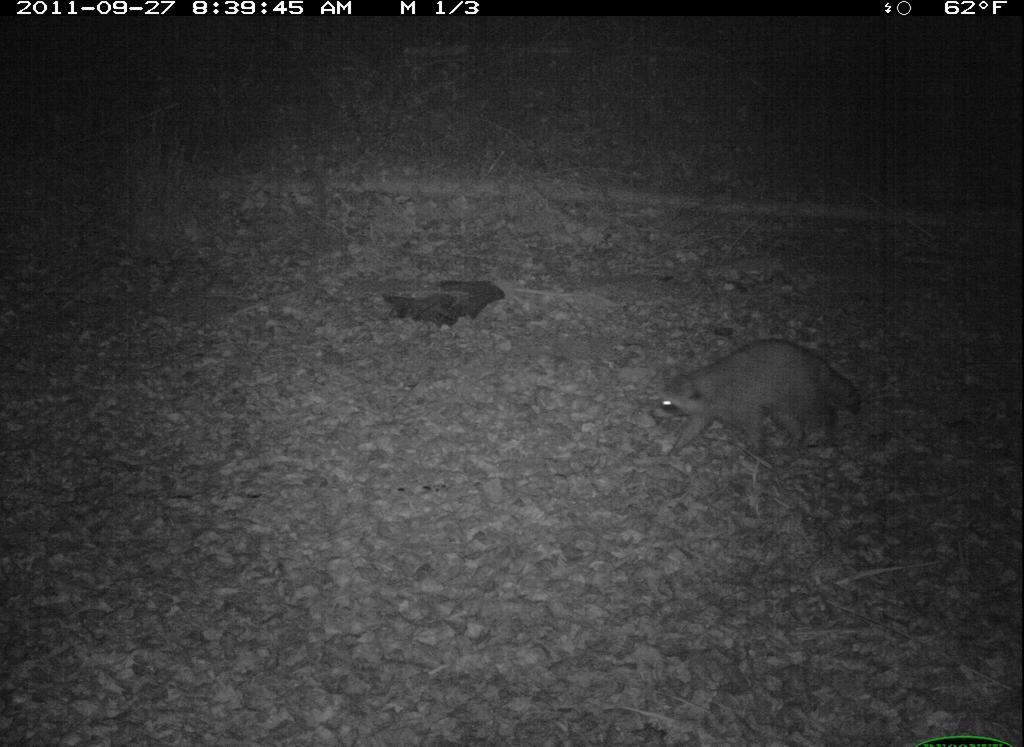raccoon: (649, 329, 872, 465)
